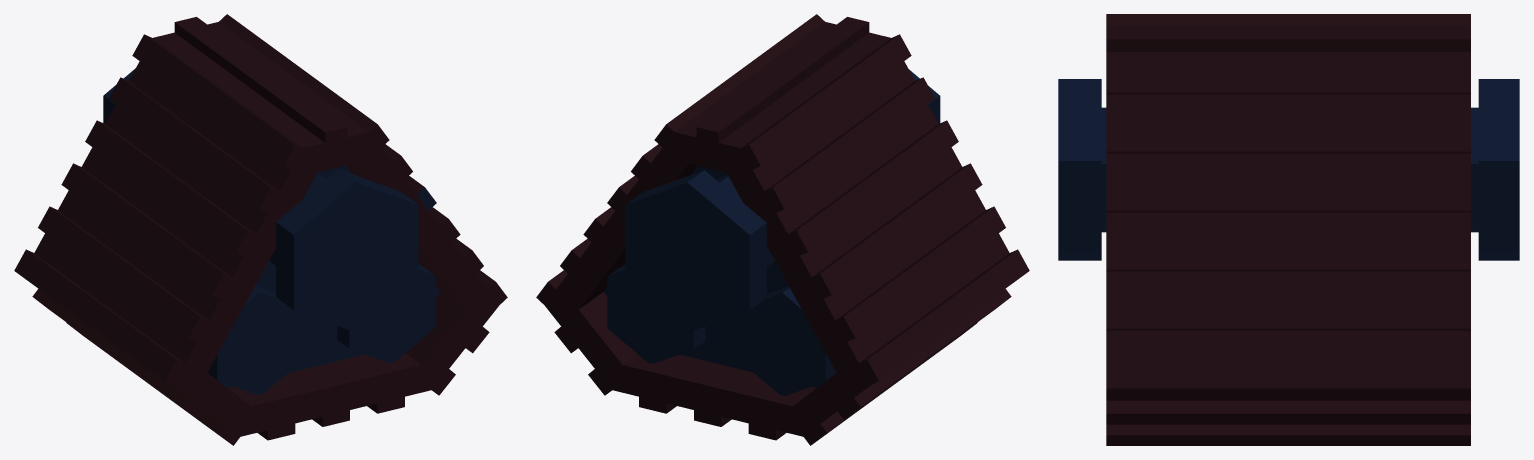
Rendered from Wheel.gltf.
3 renders of one model, left to right at view 1: azimuth 30°, elevation 25°; view 2: azimuth 150°, elevation 25°; view 3: azimuth 270°, elevation 25°, orthographic. The views are drawn at different scales.
Parts seen in each view (by area): view 1: Cylinder.001; view 2: Cylinder.001; view 3: Cylinder.001.
Part boxes in pixels (box(x1,y1,x2,y2)): Cylinder.001: box(14, 14, 507, 445); Cylinder.001: box(536, 14, 1029, 445); Cylinder.001: box(1058, 14, 1519, 445).
Size of the model in its own units: 1.04 by 0.8515 by 1.
